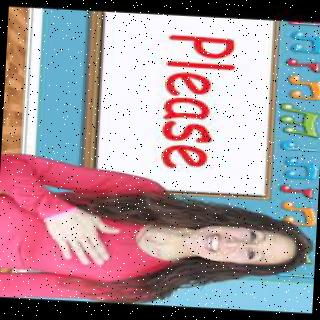Please: (21, 183, 151, 272)
